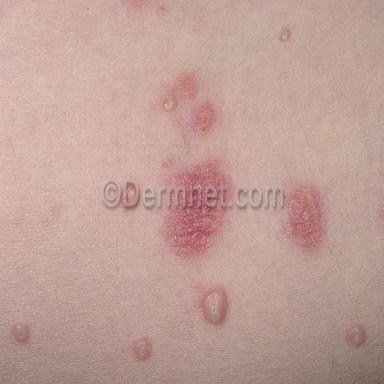Molluscum-Contagiosum: (204, 287, 227, 327), (347, 324, 367, 348), (133, 339, 151, 362), (12, 321, 30, 343), (164, 97, 174, 111), (280, 29, 291, 41)
